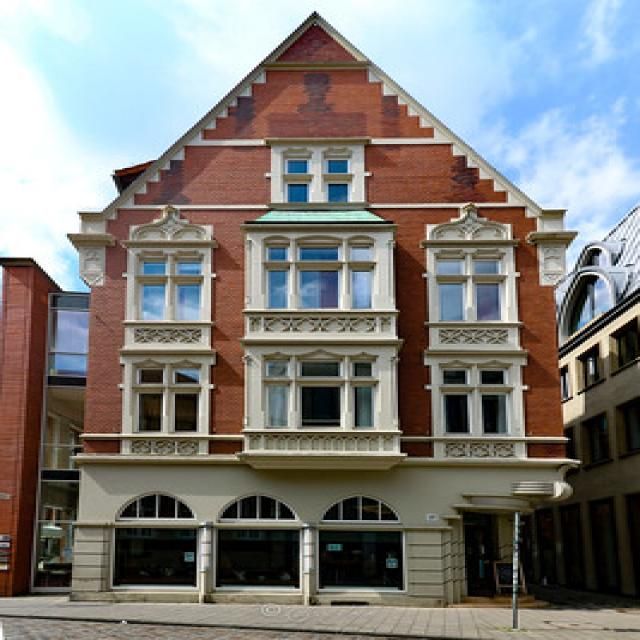Normal_building: (58, 11, 582, 614)
